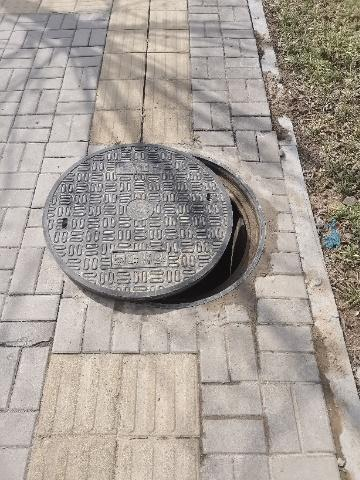wellcover: (46, 143, 272, 308)
